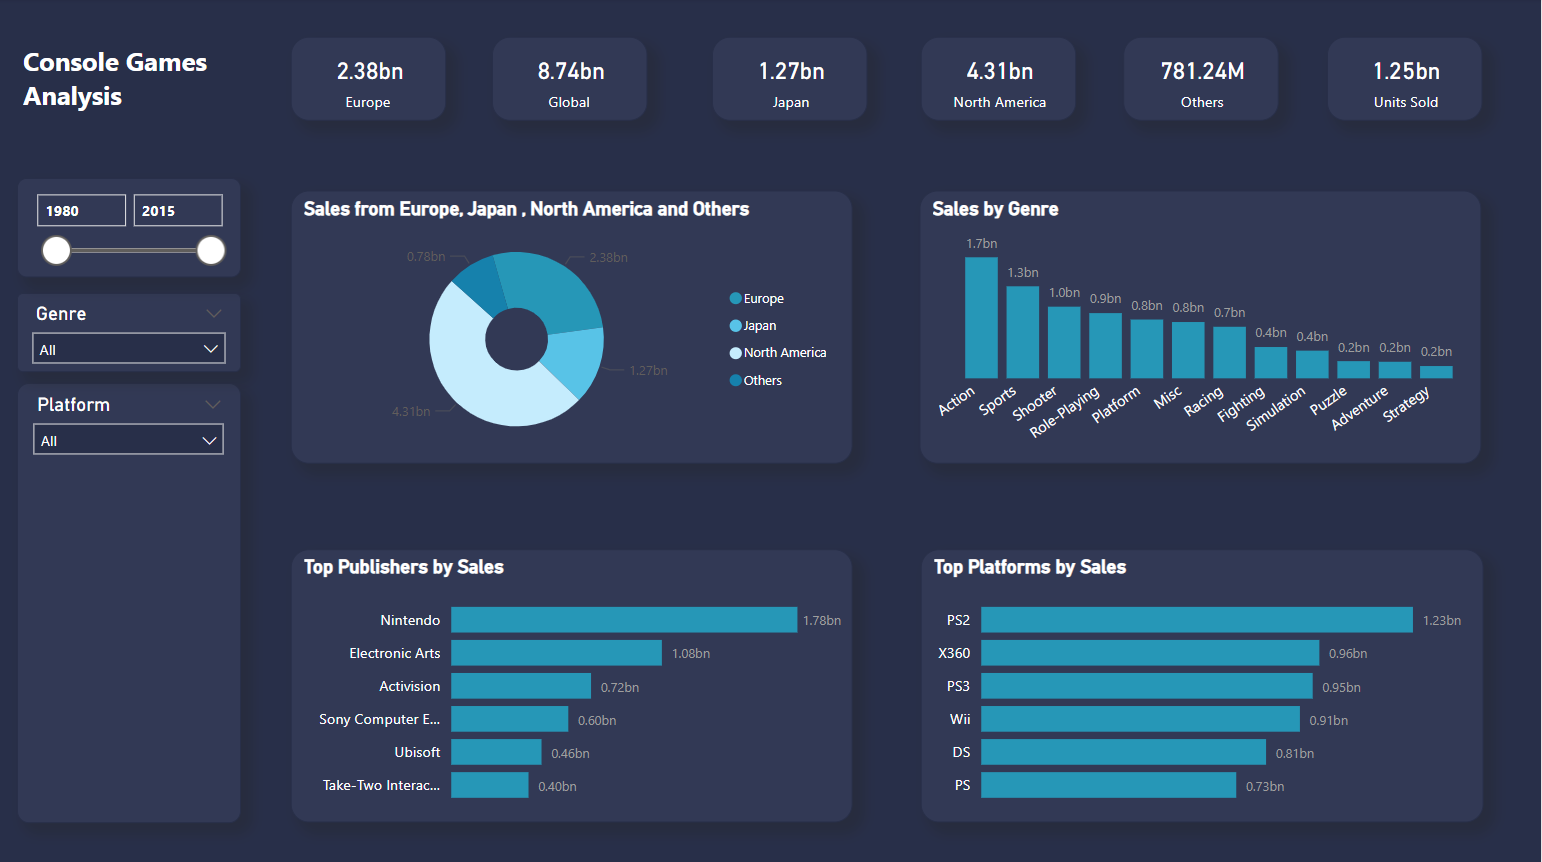

The page's visual inventory and layout, read from the dashboard file:
{"tool":"powerbi","page":{"name":"Dashboard","canvas":[1280,720],"ordinal":0},"visuals":[{"type":"slicer","fields":{"Values":["P9-ConsoleGames.Platform"]},"box":[16.7,319.3,185.3,365],"z":0},{"type":"card","fields":{"Values":["P9-ConsoleDates.Total_NA_Sales"]},"box":[765.1,32.6,129.1,69.8],"z":1000},{"type":"card","fields":{"Values":["P9-ConsoleDates.Total_JP_Sales"]},"box":[593,32.6,129.1,69.8],"z":2000},{"type":"card","fields":{"Values":["P9-ConsoleDates.Total_EU_ Sales"]},"box":[243,32.6,129.1,69.8],"z":3000},{"type":"card","fields":{"Values":["P9-ConsoleDates.Total_Sales"]},"box":[410.5,32.6,129.1,69.8],"z":4000},{"type":"card","fields":{"Values":["P9-ConsoleDates.Total_Other_Sales"]},"box":[933.7,32.6,129.1,69.8],"z":5000},{"type":"columnChart","title":" Sales by Genre","fields":{"Category":["P9-ConsoleGames.Genre"],"Y":["P9-ConsoleDates.Total_Sales"]},"box":[764.7,159.6,465.5,226.6],"z":6000},{"type":"donutChart","title":"Sales from Europe, Japan , North America  and Others","fields":{"Y":["P9-ConsoleDates.Total_EU_ Sales","P9-ConsoleDates.Total_JP_Sales","P9-ConsoleDates.Total_NA_Sales","P9-ConsoleDates.Total_Other_Sales"]},"box":[243.3,159.6,465.5,226.6],"z":7000},{"type":"barChart","title":"Top Platforms by Sales","fields":{"Category":["P9-ConsoleGames.Platform"],"Y":["P9-ConsoleDates.Total_Sales"]},"box":[765.1,457,466.3,226.7],"z":8000},{"type":"barChart","title":"Top Publishers  by Sales","fields":{"Category":["P9-ConsoleGames.Publisher"],"Y":["P9-ConsoleDates.Total_Sales"]},"box":[243.3,456.6,465.5,226.6],"z":9000},{"type":"slicer","fields":{"Values":["P9-ConsoleGames.Genre"]},"box":[16.7,244.5,185.3,65.9],"z":10000},{"type":"textbox","box":[16.7,32.4,185.3,127.3],"z":11000},{"type":"slicer","fields":{"Values":["P9-ConsoleGames.Year"]},"box":[16.7,149.6,185.3,82.6],"z":12000},{"type":"card","fields":{"Values":["P9-ConsoleDates.UnitsSold"]},"box":[1102.3,32.6,129.1,69.8],"z":12001}]}

Visuals, with their boxes in screenshot pixels (x1, y1, x2, y2), scaled from the page's 1280x720 canvas onto the 1542x862 screenshot:
slicer - P9-ConsoleGames.Platform: [20, 382, 243, 819]
card - P9-ConsoleDates.Total_NA_Sales: [922, 39, 1077, 123]
card - P9-ConsoleDates.Total_JP_Sales: [714, 39, 870, 123]
card - P9-ConsoleDates.Total_EU_ Sales: [293, 39, 448, 123]
card - P9-ConsoleDates.Total_Sales: [495, 39, 650, 123]
card - P9-ConsoleDates.Total_Other_Sales: [1125, 39, 1280, 123]
" Sales by Genre" columnChart: [921, 191, 1482, 462]
"Sales from Europe, Japan , North America  and Others" donutChart: [293, 191, 854, 462]
"Top Platforms by Sales" barChart: [922, 547, 1483, 819]
"Top Publishers  by Sales" barChart: [293, 547, 854, 818]
slicer - P9-ConsoleGames.Genre: [20, 293, 243, 372]
textbox: [20, 39, 243, 191]
slicer - P9-ConsoleGames.Year: [20, 179, 243, 278]
card - P9-ConsoleDates.UnitsSold: [1328, 39, 1483, 123]
